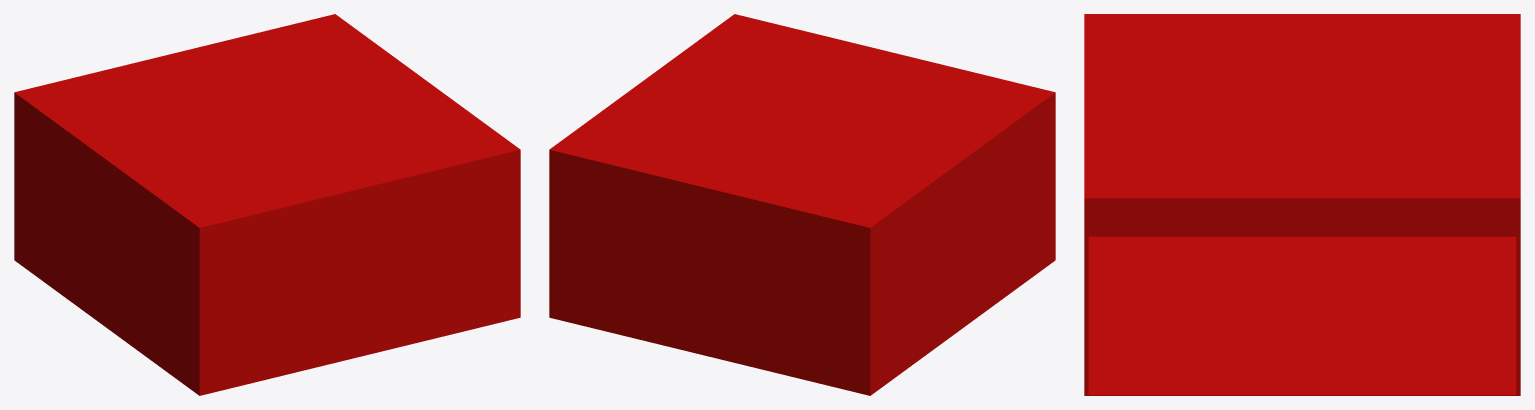
The model's file is Store.fbx.
The picture shows the model from 3 angles, left to right: view 1: azimuth 30°, elevation 25°; view 2: azimuth 150°, elevation 25°; view 3: azimuth 270°, elevation 25°; orthographic projection. The views are drawn at different scales.
Visible parts, largest first — view 1: Store; view 2: Store; view 3: Store.
Boxes of the visible parts, box(x1,y1,x2,y2) form: Store: box(14, 14, 520, 395); Store: box(549, 14, 1055, 395); Store: box(1084, 14, 1520, 395).
Size of the model in its own units: 2000 by 1000 by 2000.
